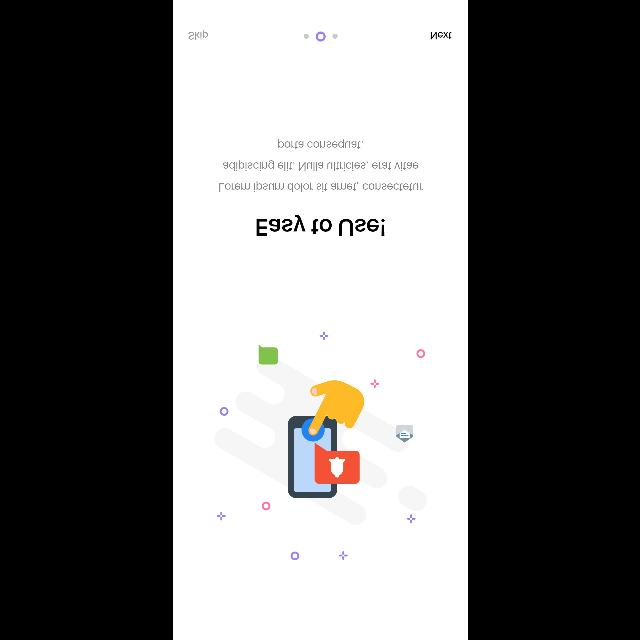image: (214, 331, 426, 561)
pageindicator: (303, 32, 337, 42)
text: (218, 140, 422, 192), (256, 214, 384, 236), (187, 30, 207, 40), (431, 32, 452, 40)
